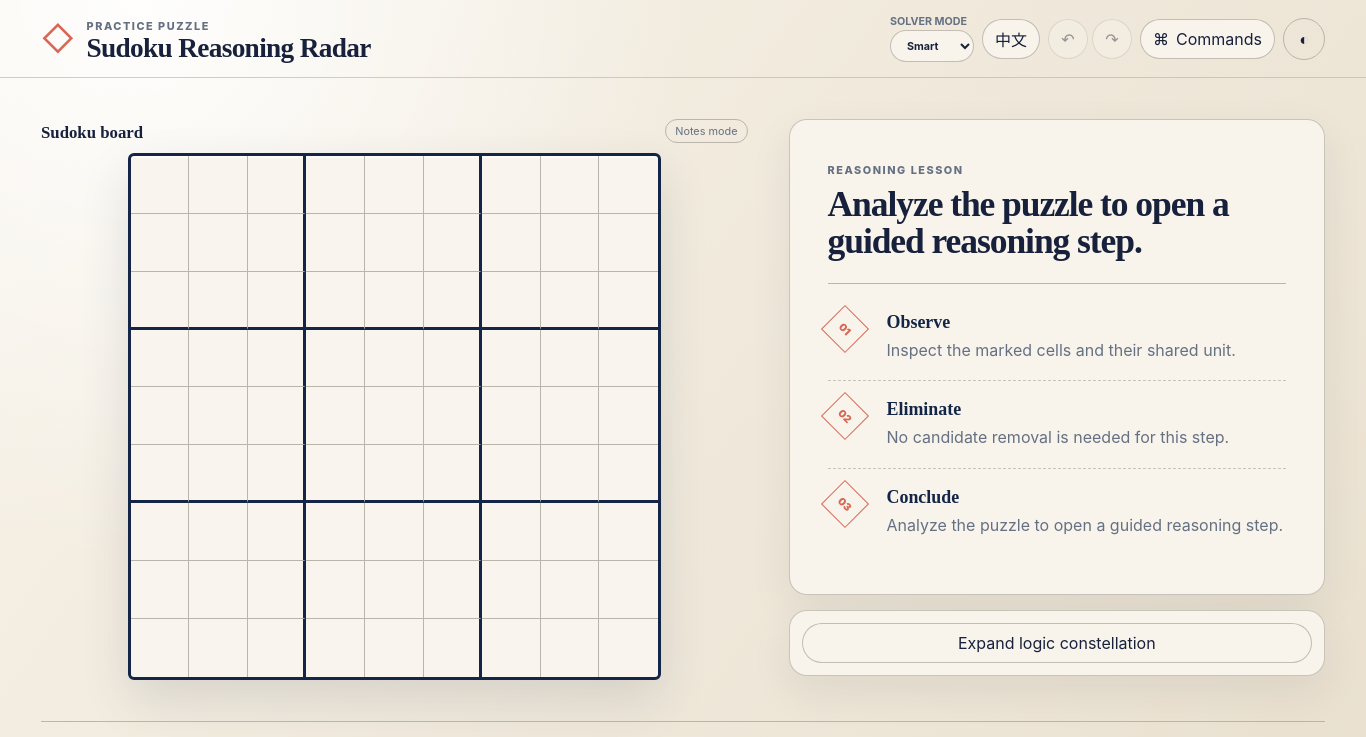
opens image review from the Web command panel and applies reviewed givens
The width and height of the screenshot is (1366, 737).
Type keys "/"
(page scrolled)
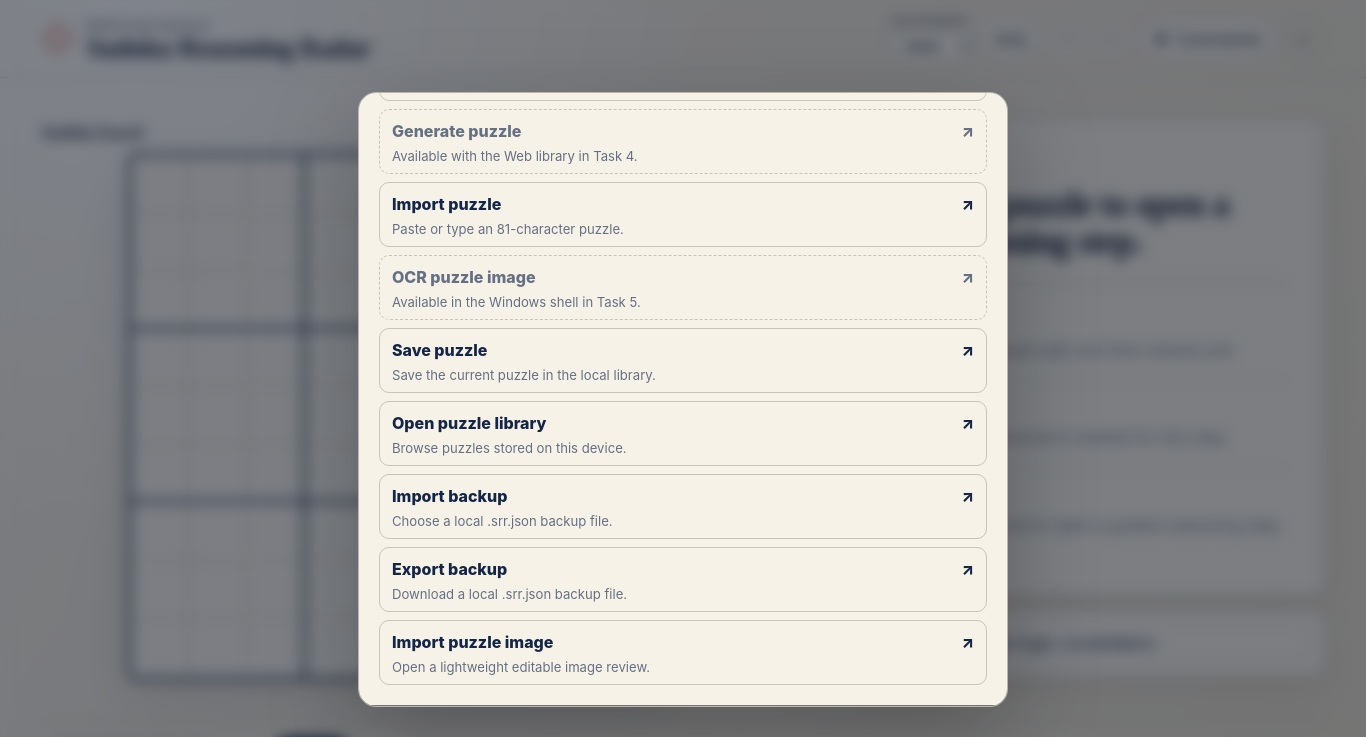
Click the button "Import puzzle image ↗".
click(473, 642)  # box [392,630,974,654]
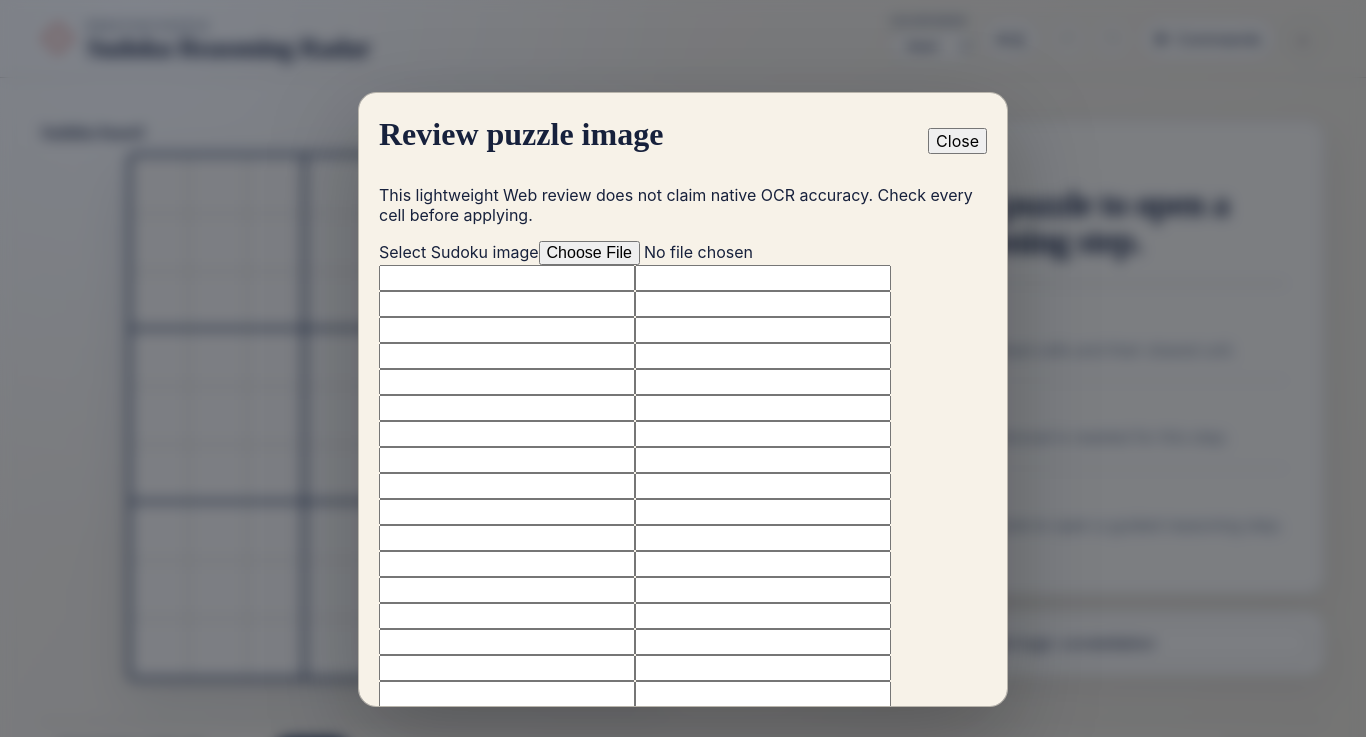
Type "9" into the field named "image row 1, column 1".
click(507, 278); type("9")  # box [379,265,635,291]
(page scrolled)
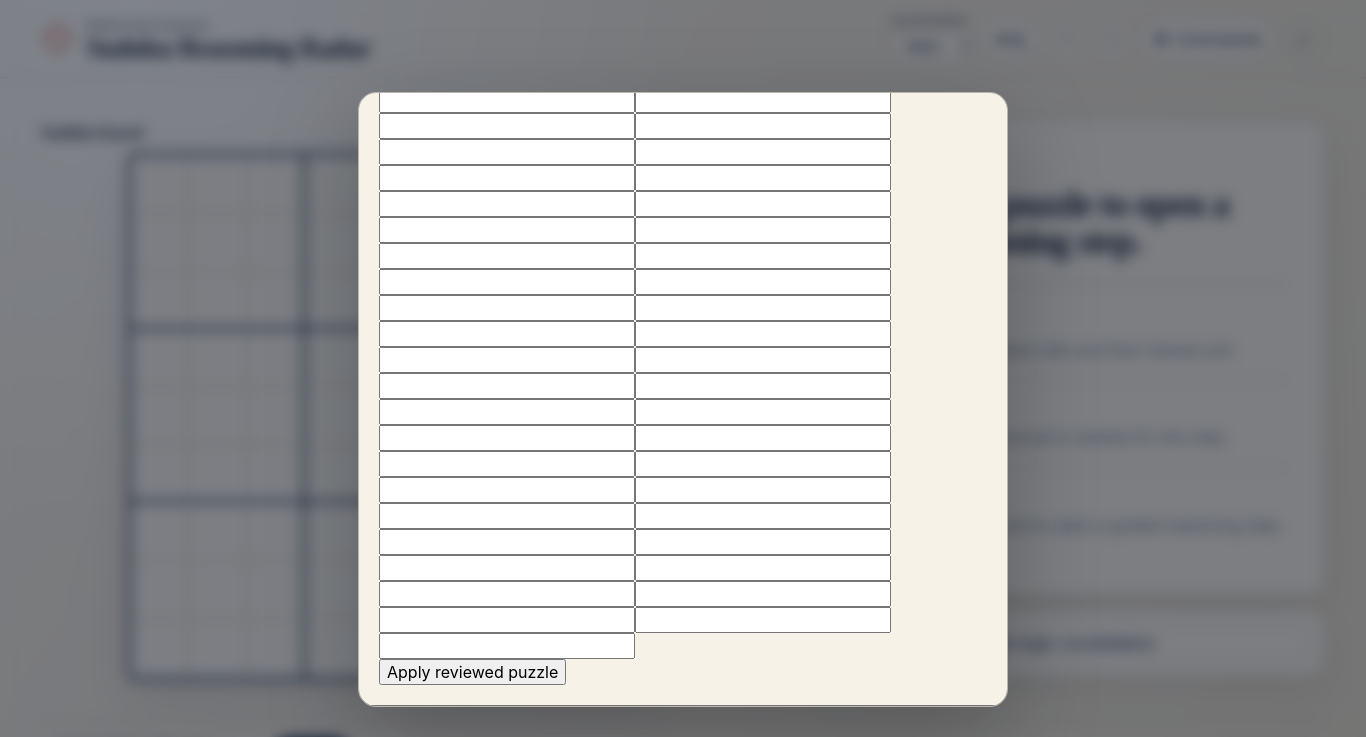
Click the button "Apply reviewed puzzle".
click(473, 672)  # box [379,659,566,685]
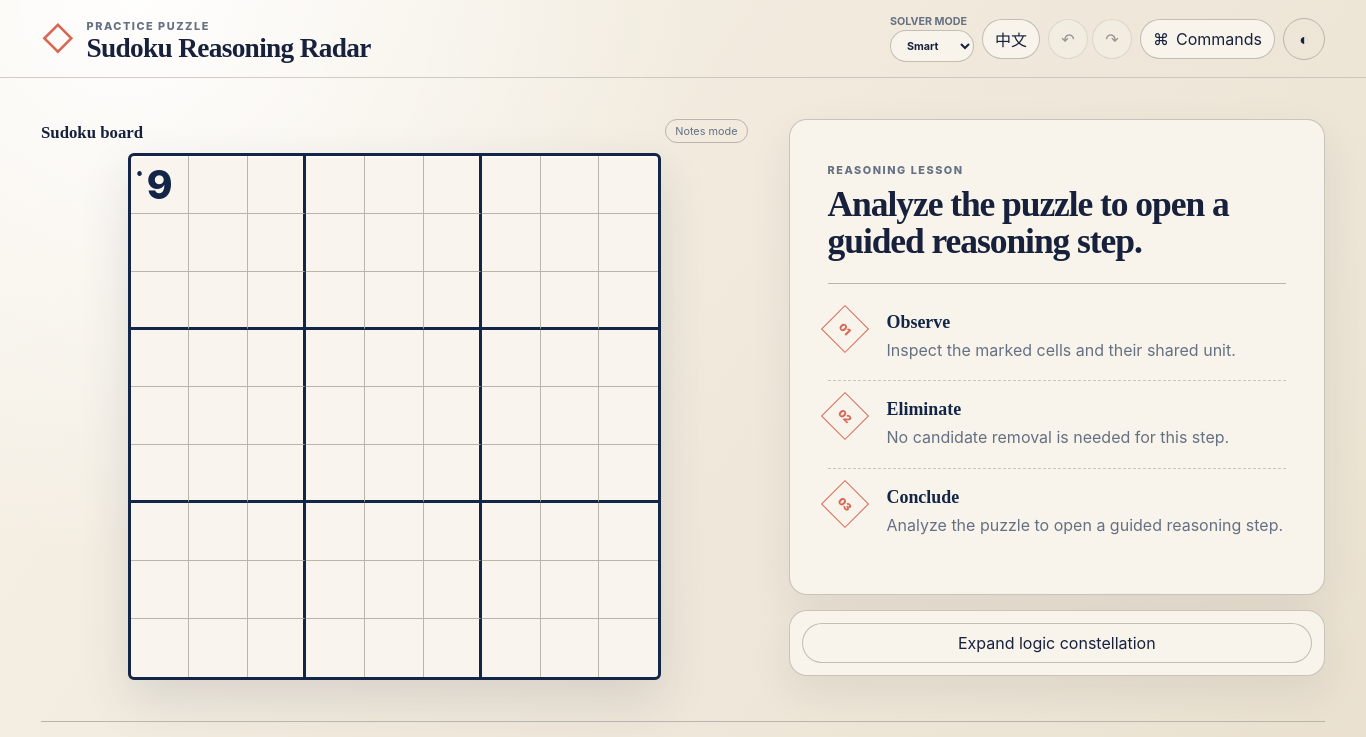
Expected: the heading "Review puzzle image" is not shown
Expected: the button named "row 1, column 1, given 9" is shown, [131,165,188,204]
